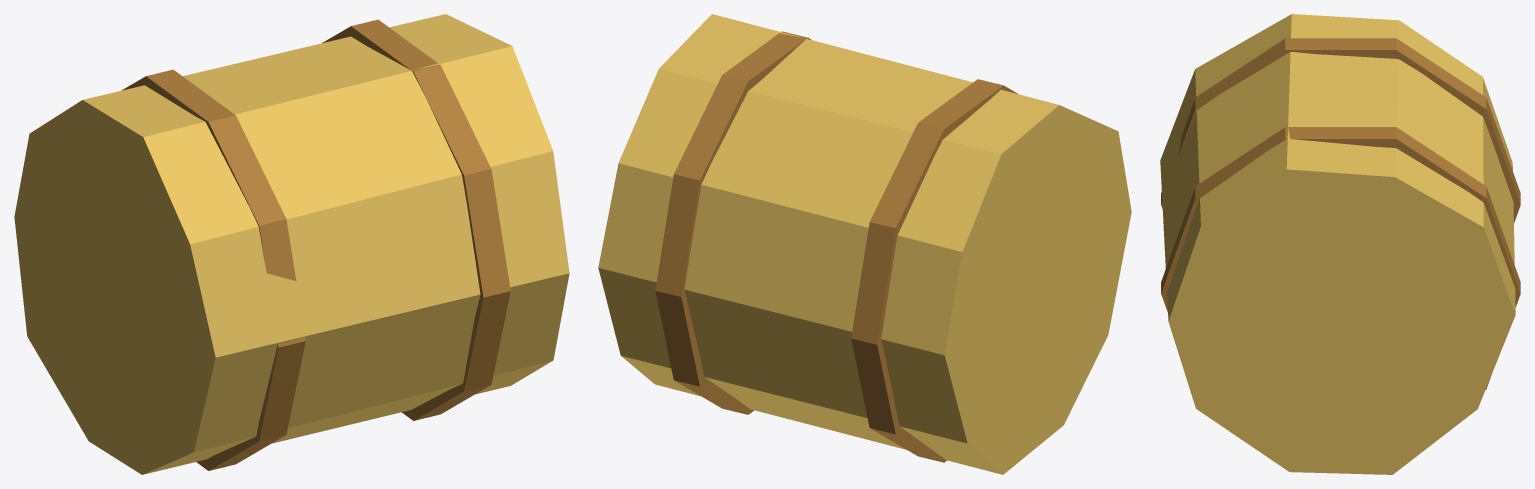
File: HayBale.fbx
The picture shows the model from 3 angles, left to right: view 1: azimuth 30°, elevation 25°; view 2: azimuth 150°, elevation 25°; view 3: azimuth 270°, elevation 25°; orthographic projection. The views are drawn at different scales.
Parts seen in each view (by area): view 1: Hay, Twine; view 2: Hay, Twine; view 3: Hay, Twine.
Boxes of the visible parts, x1,y1,x2,y2 form: Hay: (14, 14, 569, 474); Twine: (121, 19, 510, 470); Hay: (598, 14, 1131, 474); Twine: (655, 31, 1018, 462); Hay: (1160, 14, 1515, 474); Twine: (1161, 38, 1520, 389).
Bounding box in the file's own units: 1.65 × 1.47 × 1.54.
